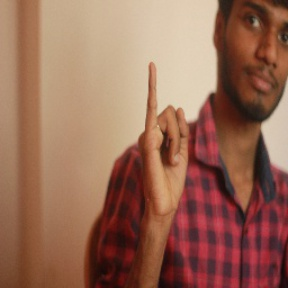I: (136, 61, 193, 209)
